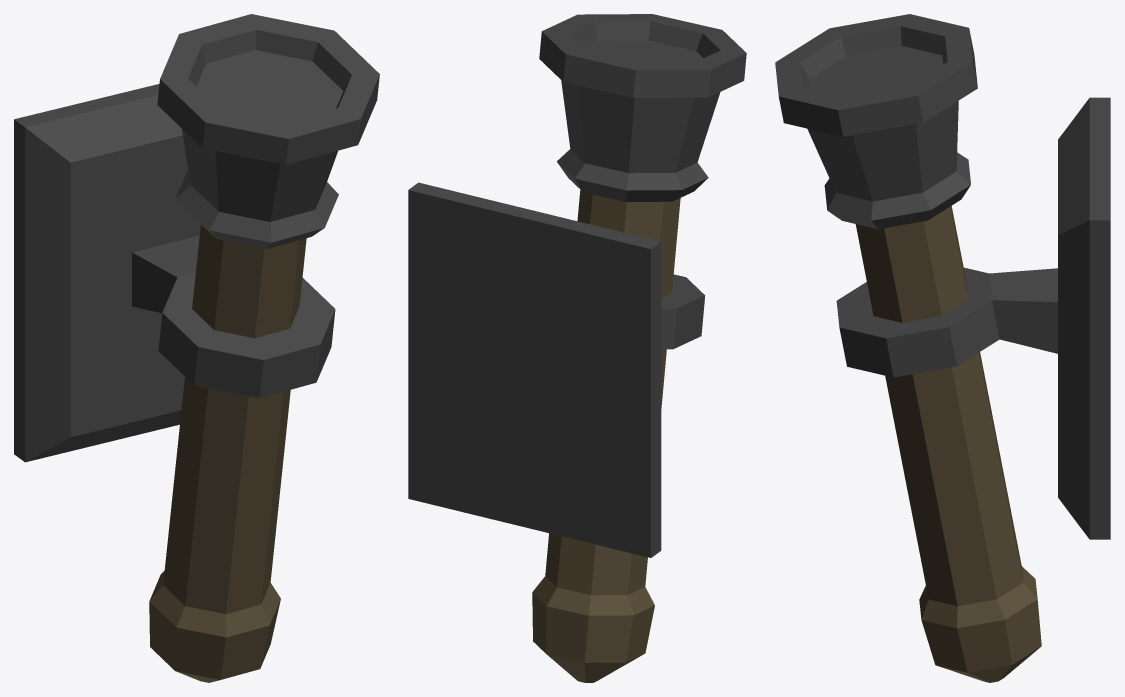
The model's file is K_Wall_Torch.fbx.
3 renders of one model, left to right at view 1: azimuth 30°, elevation 25°; view 2: azimuth 150°, elevation 25°; view 3: azimuth 270°, elevation 25°, orthographic. The views are drawn at different scales.
Parts seen in each view (by area): view 1: WallTorch; view 2: WallTorch; view 3: WallTorch.
Boxes of the visible parts, box(x1,y1,x2,y2) form: WallTorch: box(14, 14, 379, 682); WallTorch: box(408, 14, 746, 682); WallTorch: box(775, 14, 1110, 682).
Size of the model in its own units: 0.9295 by 2.24 by 1.08.
